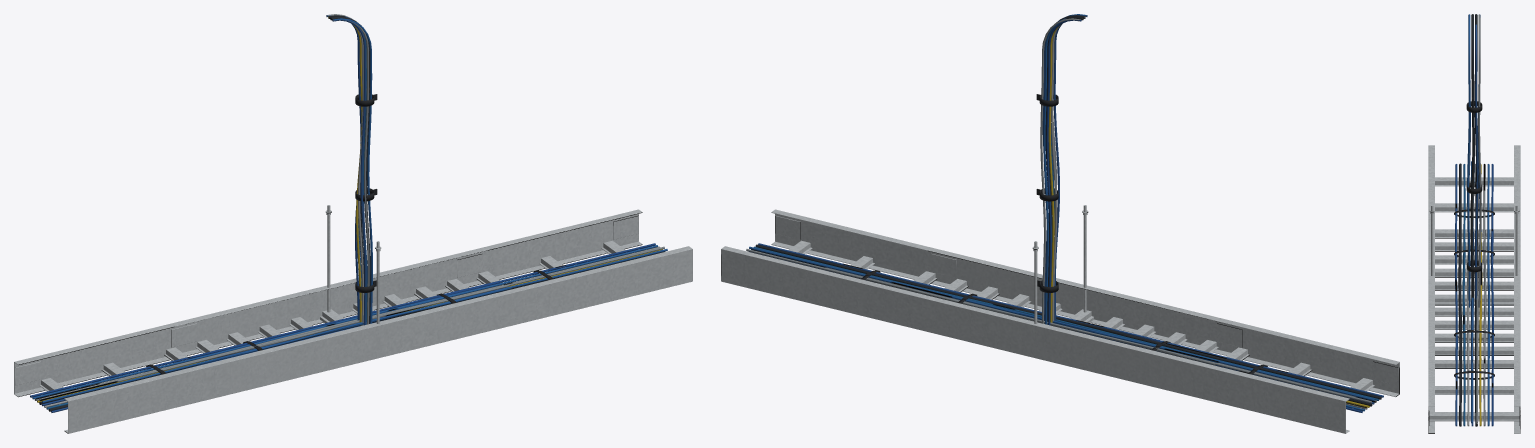
The model's file is cable_tray_kit.glb.
3 views of the same model, side by side, from view 1: azimuth 30°, elevation 25°; view 2: azimuth 150°, elevation 25°; view 3: azimuth 270°, elevation 25° (orthographic). The views are drawn at different scales.
Parts seen in each view (by area): view 1: tray_2m, tray_1m, drop_1m; view 2: tray_2m, tray_1m, drop_1m; view 3: tray_2m, tray_1m, drop_1m.
Boxes of the visible parts, bbox=[...] form: tray_2m: bbox=[14, 209, 692, 433]; tray_1m: bbox=[170, 205, 536, 395]; drop_1m: bbox=[326, 14, 377, 325]; tray_2m: bbox=[721, 209, 1399, 433]; tray_1m: bbox=[877, 205, 1242, 395]; drop_1m: bbox=[1036, 14, 1087, 325]; tray_2m: bbox=[1428, 145, 1520, 433]; tray_1m: bbox=[1428, 205, 1520, 360]; drop_1m: bbox=[1466, 14, 1482, 307].
Bounding box in the file's own units: 2 × 1 × 0.3.
Materials: 3 (3 with a texture image).
